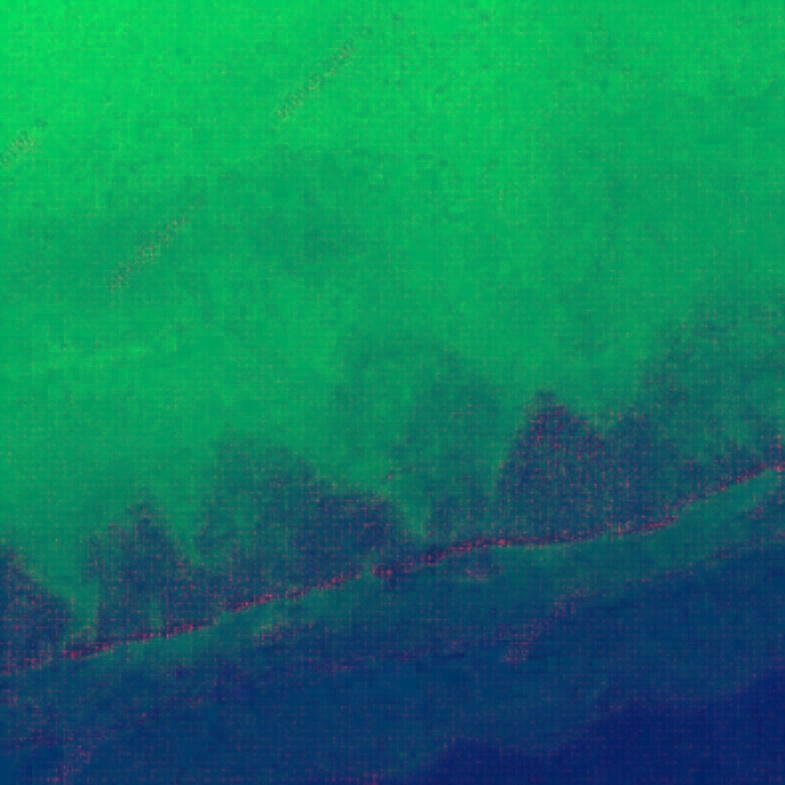rip_current: (331, 366, 537, 528)
